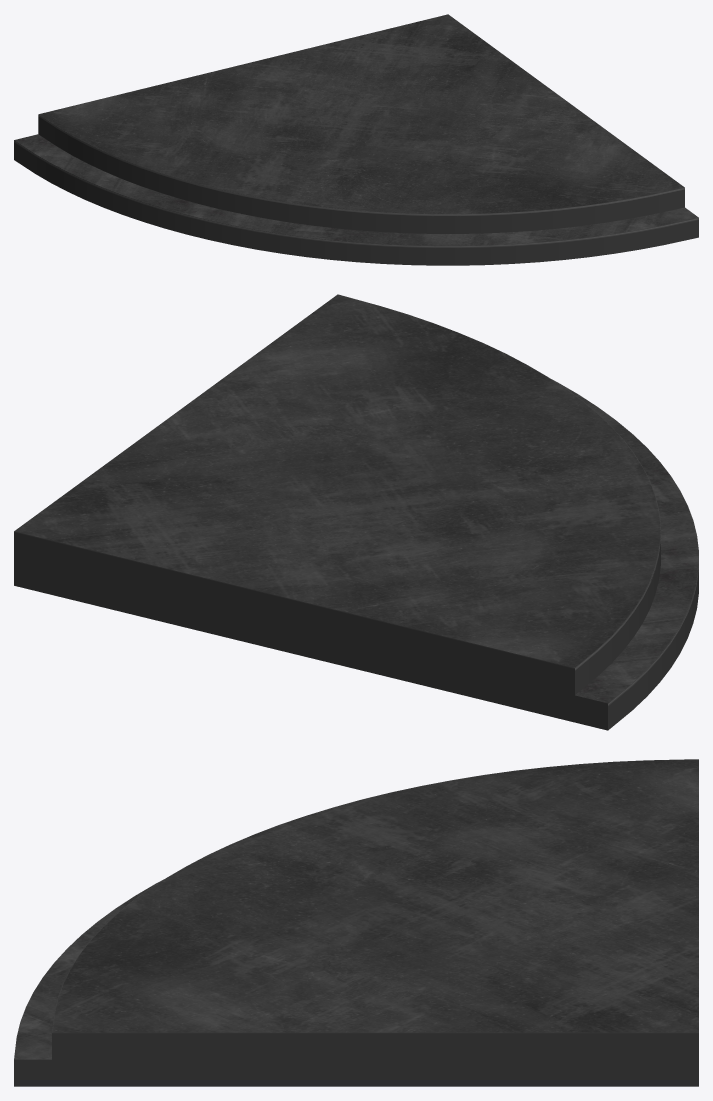
File: LIH0110009.fbx
The picture shows the model from 3 angles, top to bottom: view 1: azimuth 30°, elevation 25°; view 2: azimuth 150°, elevation 25°; view 3: azimuth 270°, elevation 25°; orthographic projection. The views are drawn at different scales.
Visible parts, largest first — view 1: smLIH0110009; view 2: smLIH0110009; view 3: smLIH0110009.
Boxes of the visible parts, x1,y1,x2,y2 form: smLIH0110009: (14, 14, 698, 265); smLIH0110009: (14, 294, 698, 730); smLIH0110009: (14, 759, 698, 1086).
Size of the model in its own units: 605 by 52.87 by 605.
Materials: 1 (1 with a texture image).
